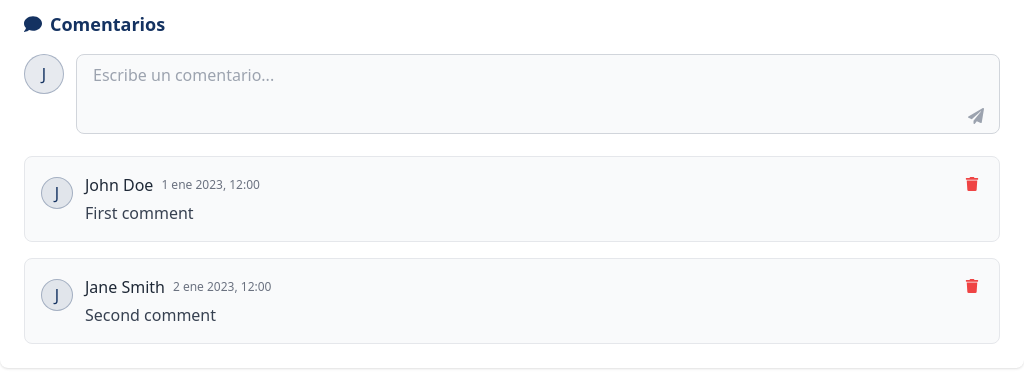
Scenario: CommentSection › should enable submit button when typing a comment
Type "New comment text" into the text box with placeholder "Escribe un comentario..." at (538, 94), box x1=76 y1=54 x2=1000 y2=134
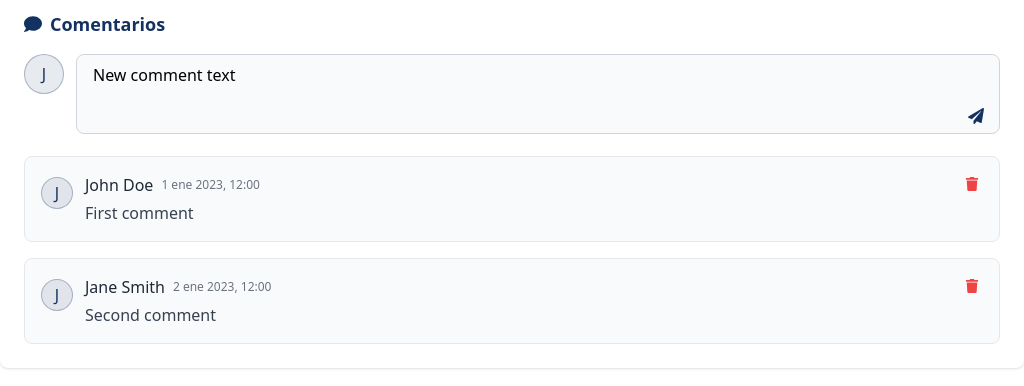
Expected: the submit button is enabled, x1=960 y1=100 x2=992 y2=132
